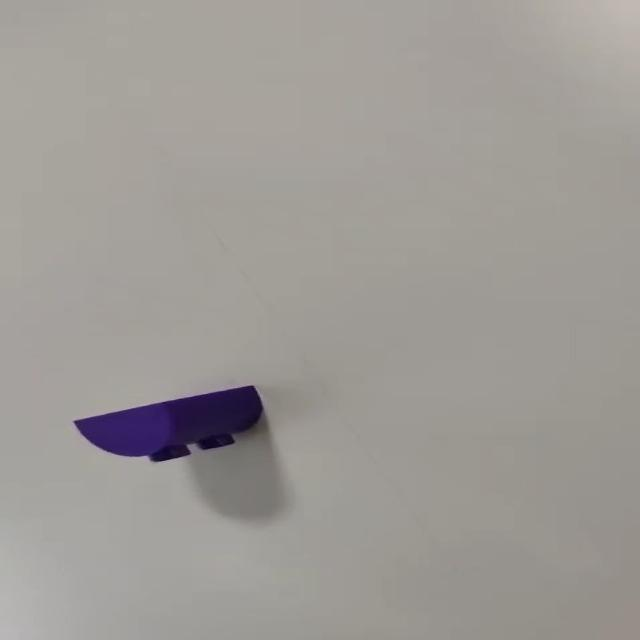H2x2x1: (69, 384, 265, 467)
